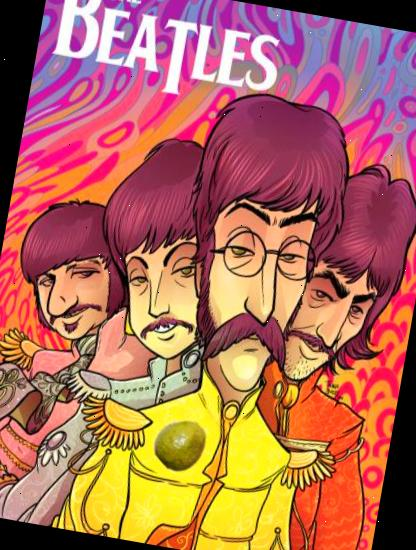Guava: (150, 412, 214, 477)
